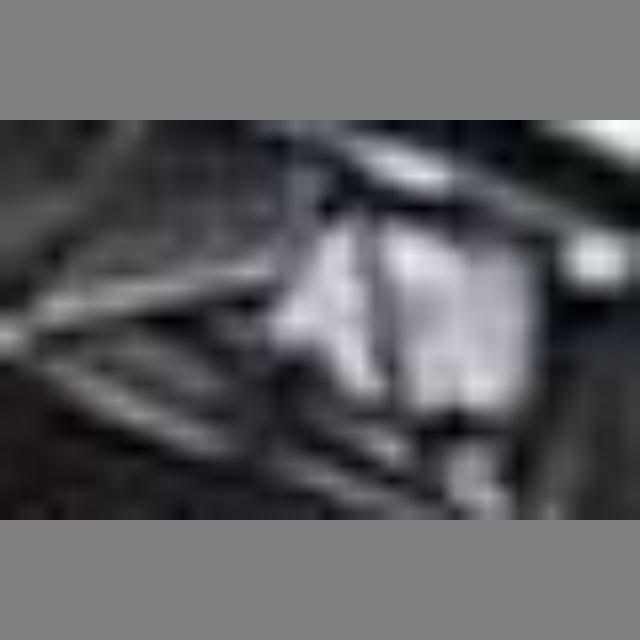pakai: (288, 136, 496, 440)
